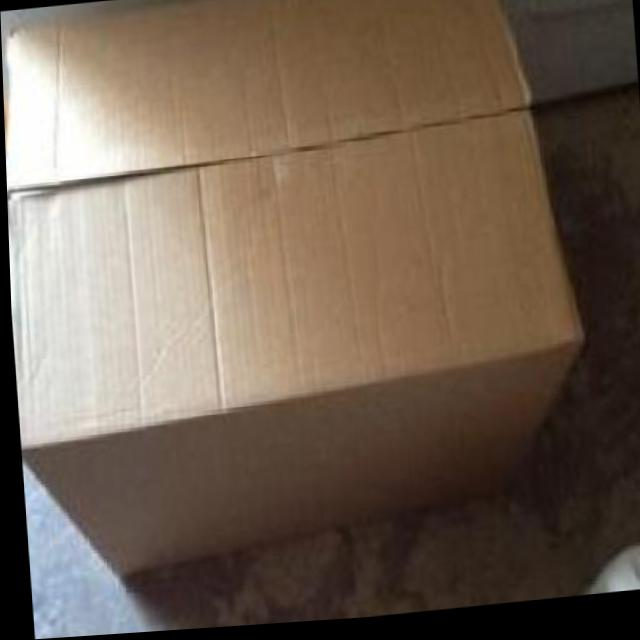box: (0, 0, 597, 591)
